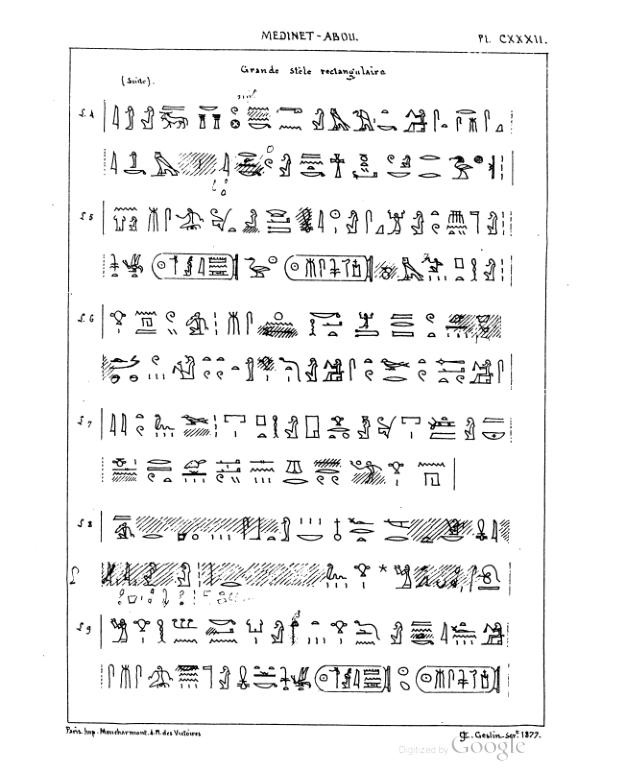circle: (280, 250, 379, 289), (147, 248, 240, 286), (311, 659, 394, 696), (413, 662, 504, 695)
